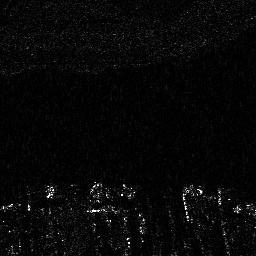ship: (19, 182, 81, 198), (85, 184, 141, 199)
